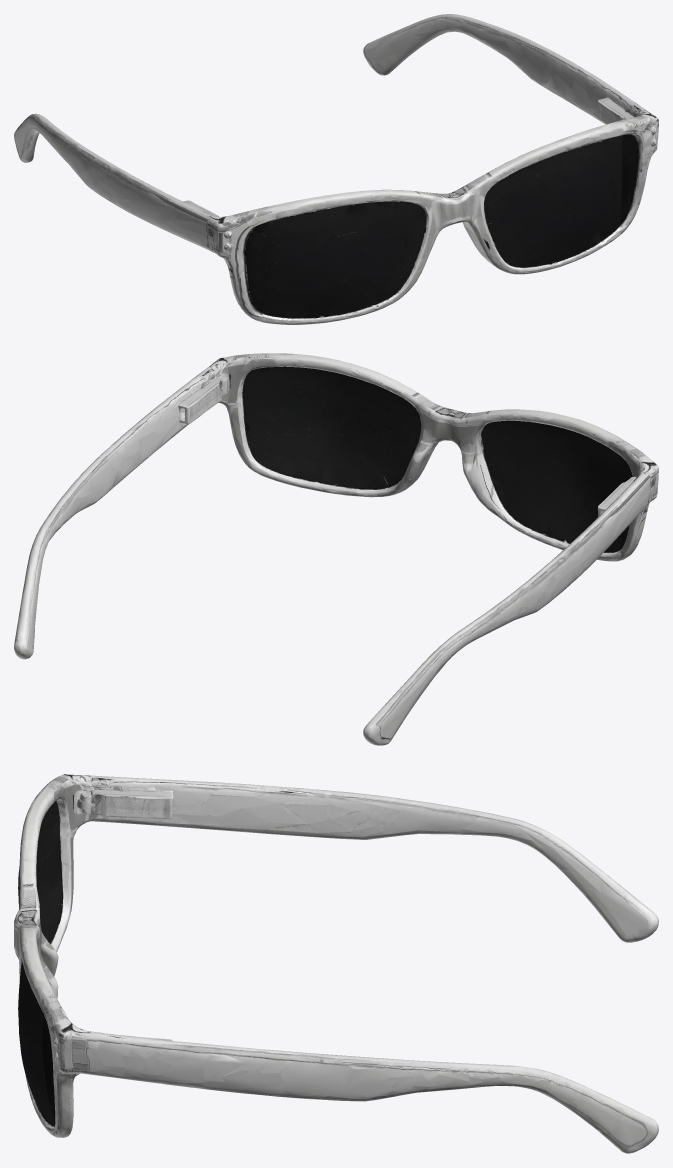
The model's file is el-sunglasses.glb.
3 views of the same model, one above another, from view 1: azimuth 30°, elevation 25°; view 2: azimuth 150°, elevation 25°; view 3: azimuth 270°, elevation 25° (orthographic). The views are drawn at different scales.
Visible parts, largest first — view 1: Mesh_0; view 2: Mesh_0; view 3: Mesh_0.
Part boxes in pixels (bbox=[...]): Mesh_0: bbox=[14, 14, 658, 324]; Mesh_0: bbox=[14, 353, 658, 745]; Mesh_0: bbox=[14, 774, 658, 1153].
Size of the model in its own units: 0.9946 by 0.2731 by 0.9999.
Materials: 1 (1 with a texture image).
